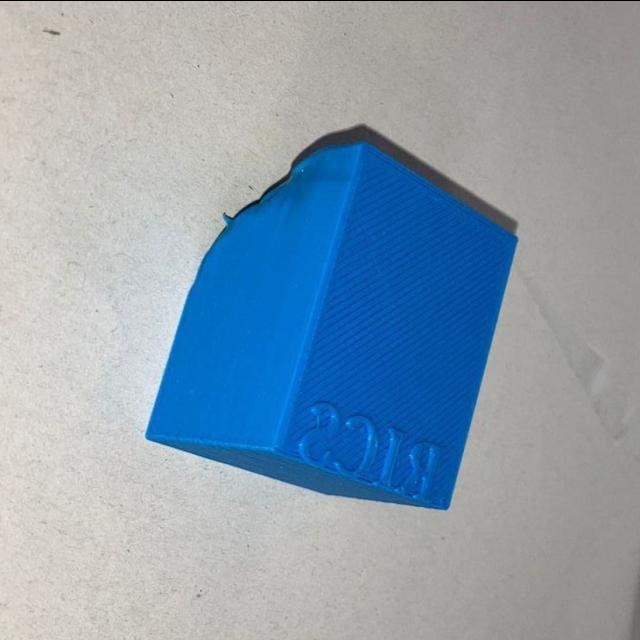Warping: (223, 149, 299, 235)
